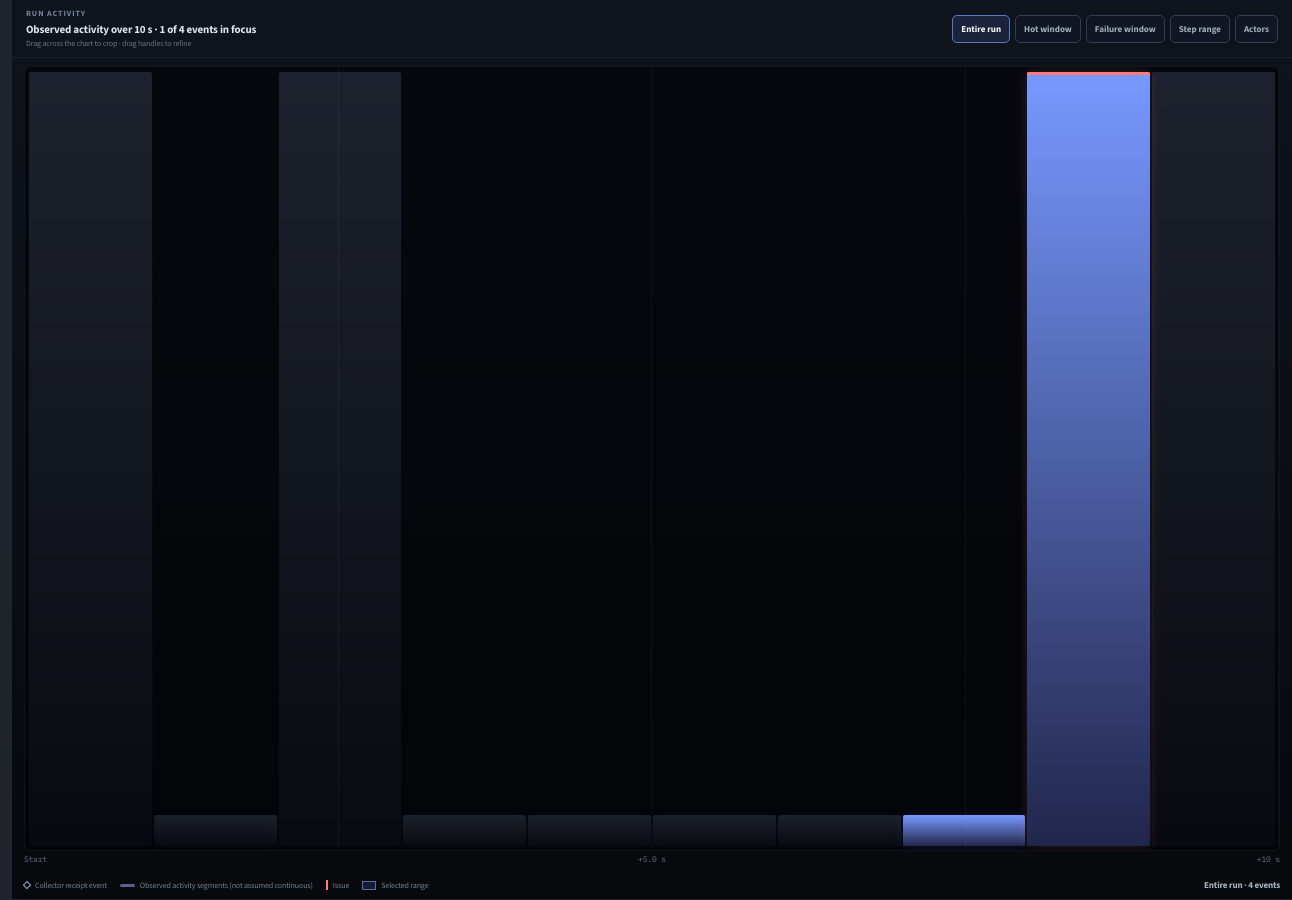
keeps a stable run clock while visibly focusing filtered evidence
Expected: the text "Observed activity over 10 s · 1 of 4 events in focus" is shown, x1=26 y1=22 x2=256 y2=37
Click the button "Actors" at (1256, 28), box x1=1235 y1=14 x2=1278 y2=42
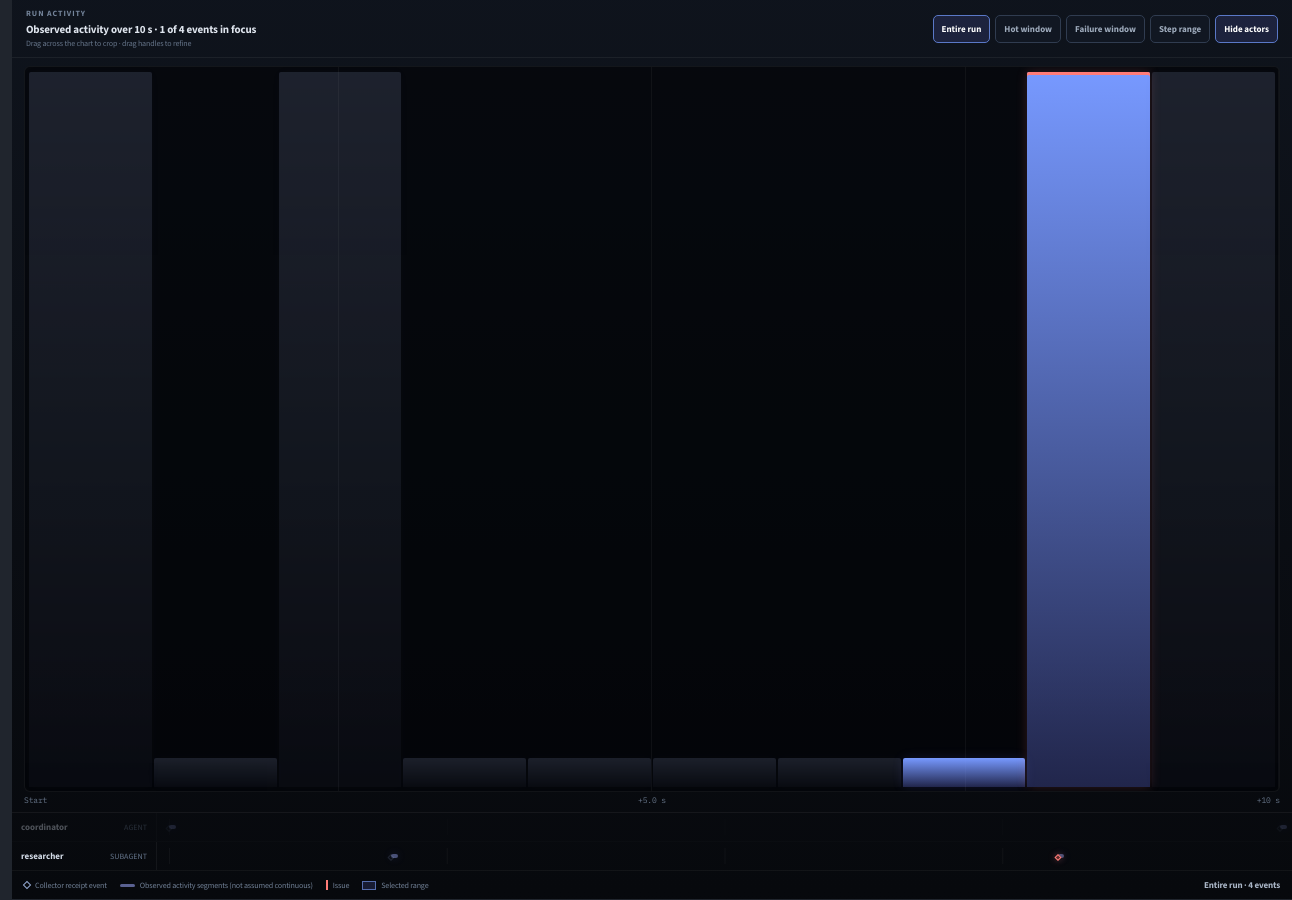
Result: the element named "Actor activity ribbons" is shown at x1=12 y1=812 x2=1291 y2=871
